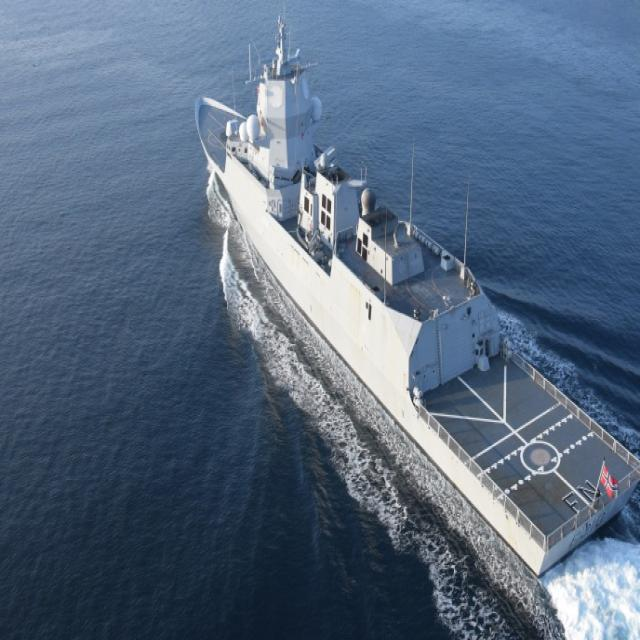Fragata: (191, 9, 640, 580)
